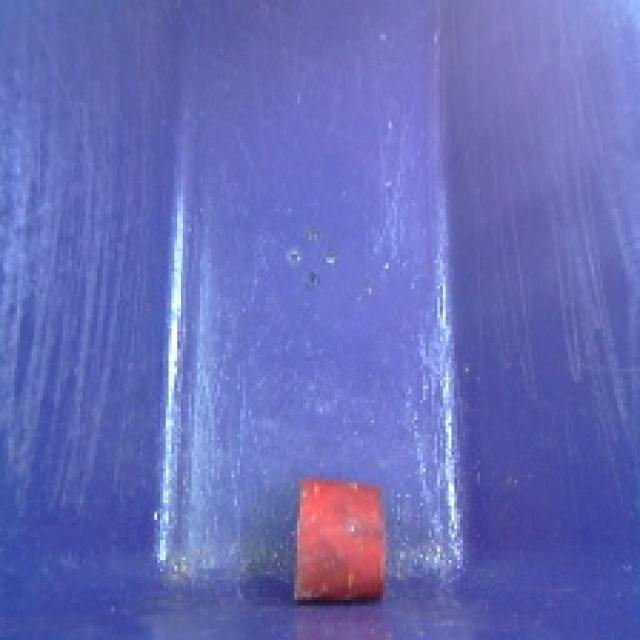carrots: (283, 467, 394, 611)
